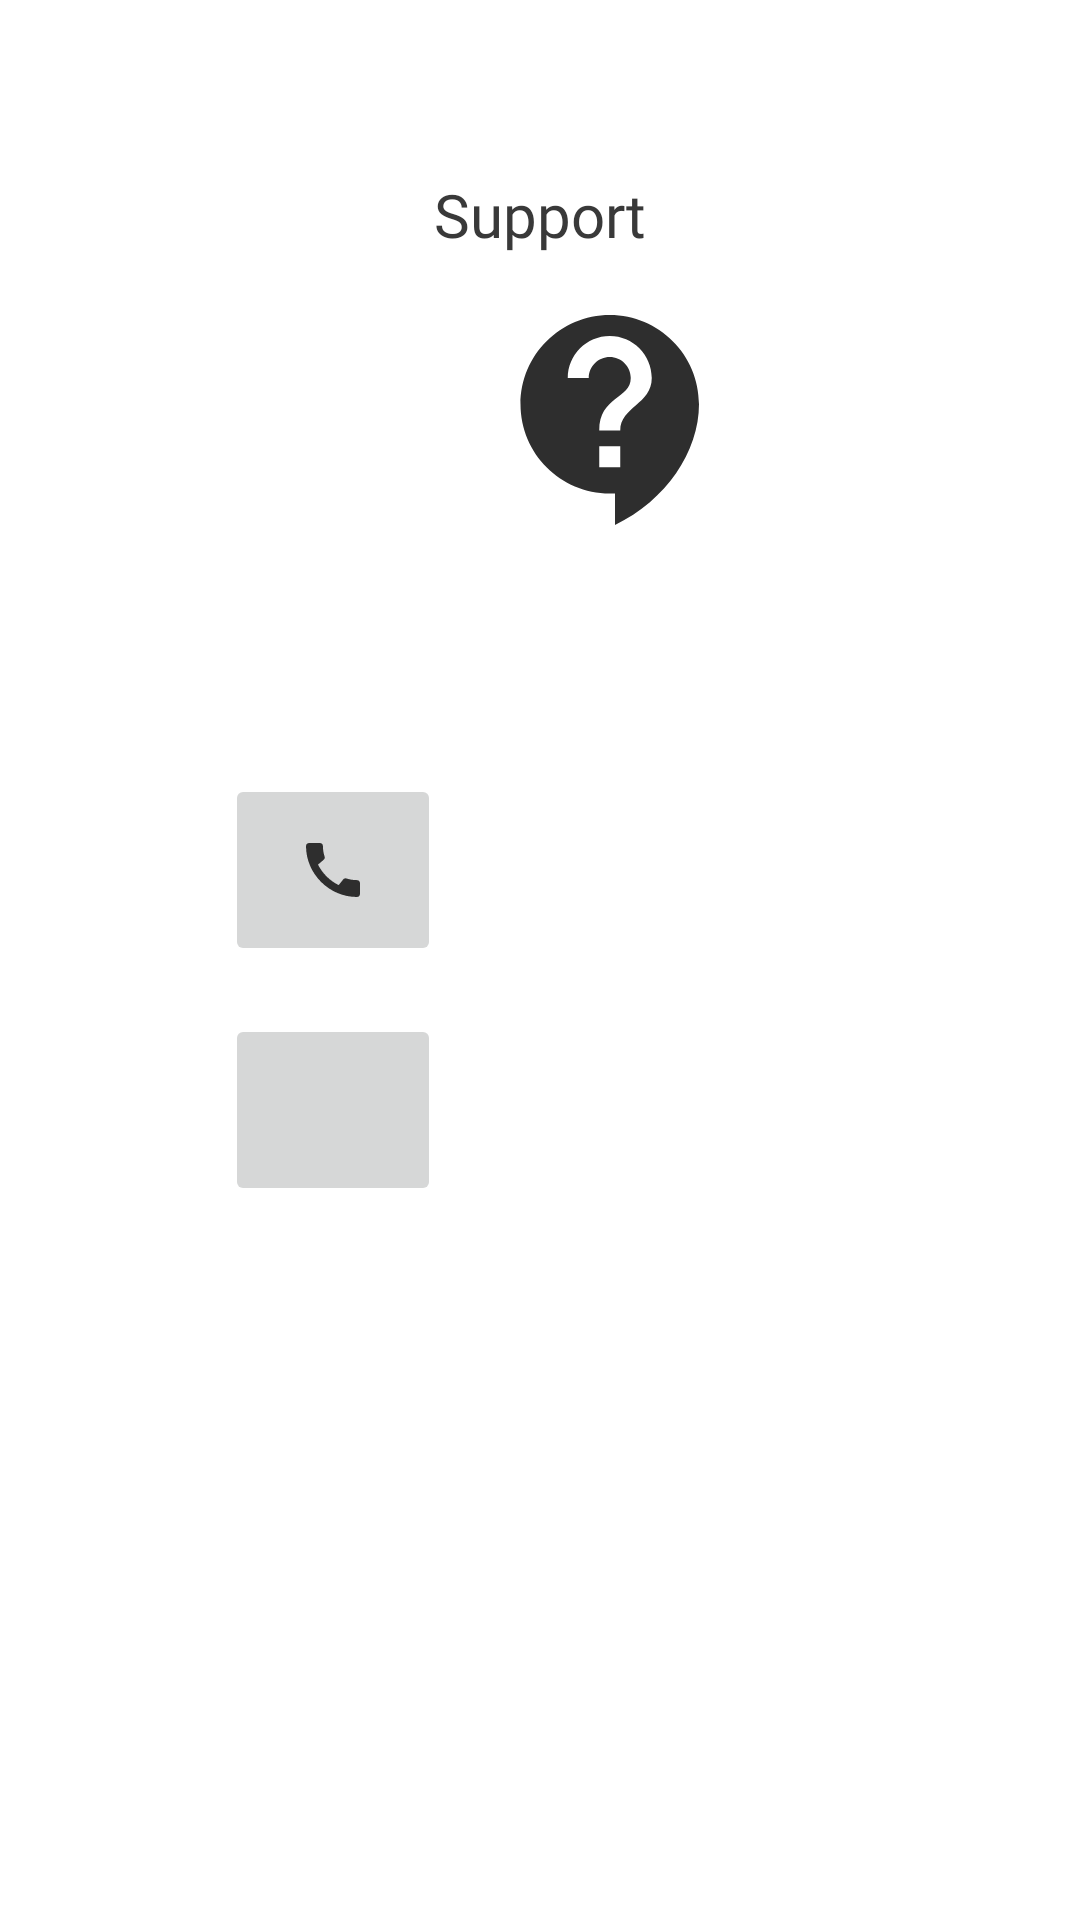

Screen size 1080w x 1920h. Icon name, then its box in pixels as box(x1, y1, x2, y2):
call: box(237, 792, 429, 948)
